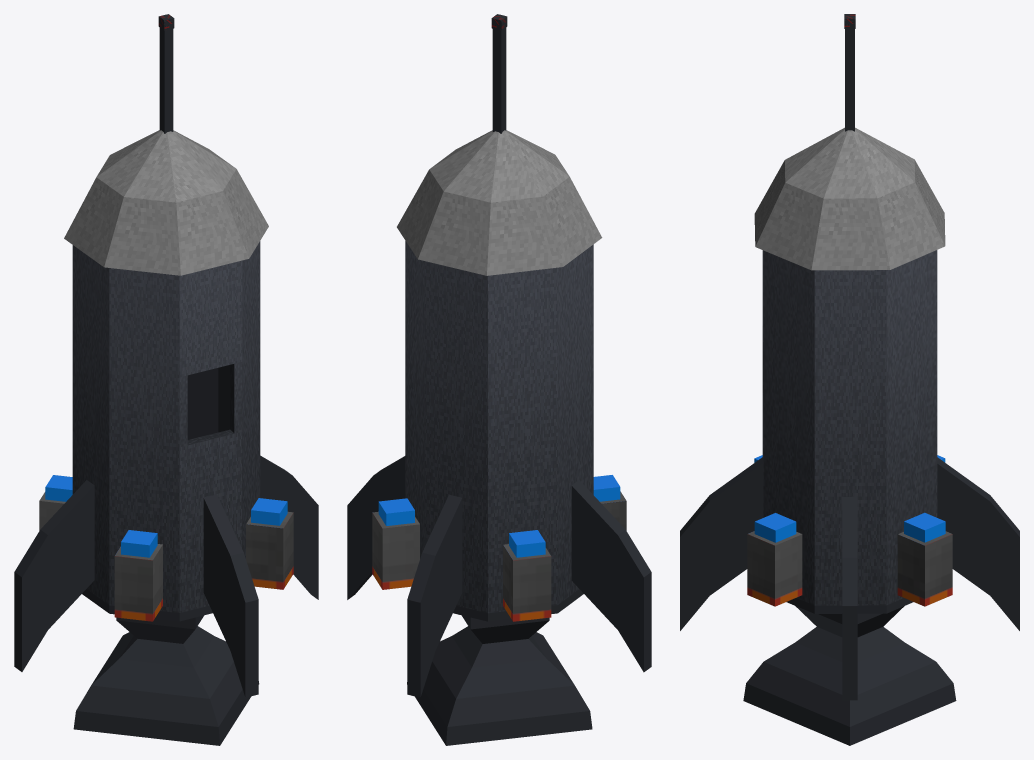
The model's file is tier4rocket.obj.
3 views of the same model, side by side, from view 1: azimuth 30°, elevation 25°; view 2: azimuth 150°, elevation 25°; view 3: azimuth 270°, elevation 25° (orthographic).
Parts seen in each view (by area): view 1: Rocket, NoseCone, Boosters; view 2: Rocket, NoseCone, Boosters; view 3: Rocket, NoseCone, Boosters.
Part boxes in pixels (<box>): Rocket: <box>14,27,318,745</box>; NoseCone: <box>64,130,268,275</box>; Boosters: <box>39,475,293,621</box>; Rocket: <box>347,27,651,745</box>; NoseCone: <box>397,130,602,275</box>; Boosters: <box>372,475,626,621</box>; Rocket: <box>680,29,1019,745</box>; NoseCone: <box>754,127,945,270</box>; Boosters: <box>747,455,952,606</box>.
Size of the model in its own units: 3.61 by 8.02 by 3.61.
